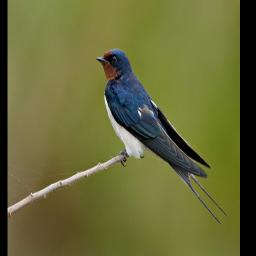Swallow: (95, 49, 228, 226)
